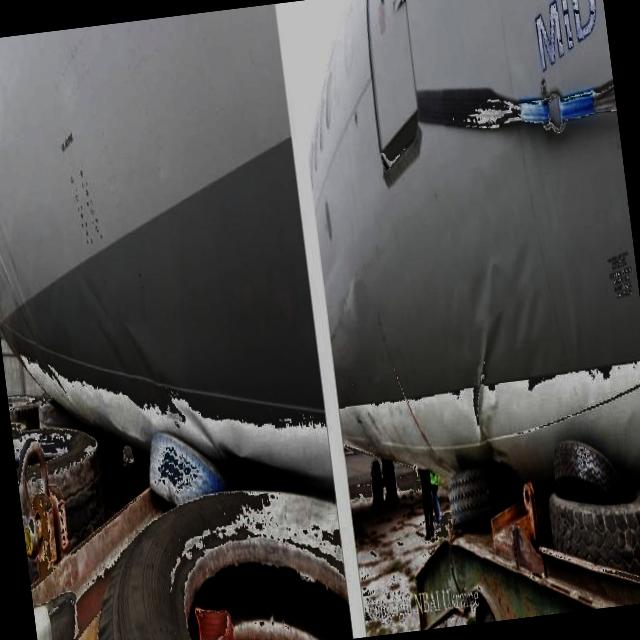dent: (78, 240, 196, 466), (454, 238, 562, 474)
